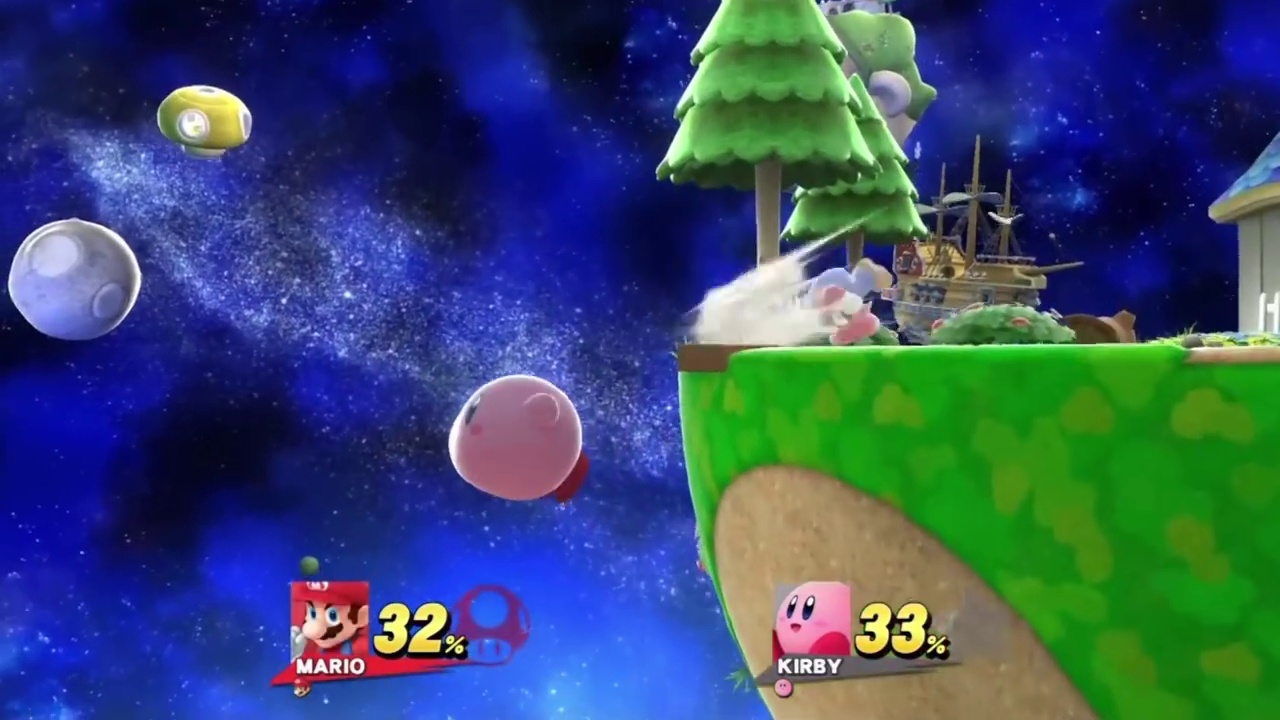Mario: (806, 259, 894, 348)
